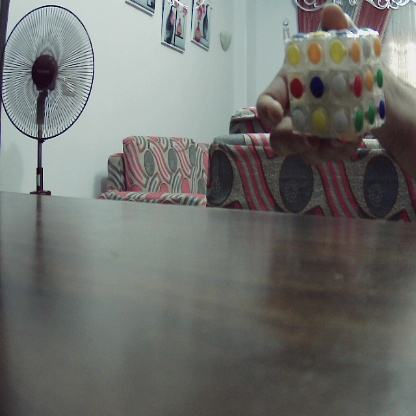Rubix Cube: (285, 26, 387, 141)
